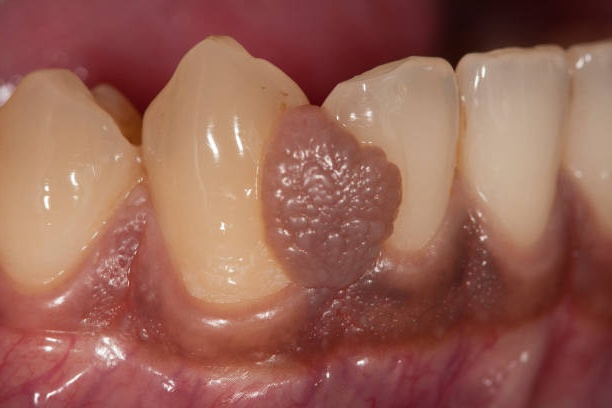Gingivitis: (294, 284, 423, 360), (445, 220, 514, 323)
